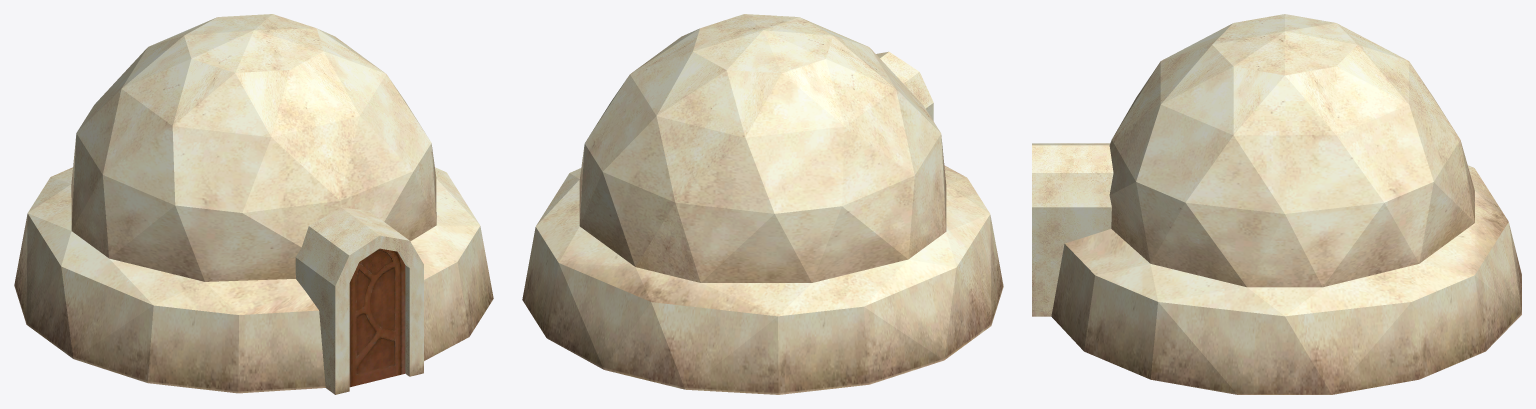
Rendered from thm_tato_sandstone_hovel_s01_l1.fbx.
The picture shows the model from 3 angles, left to right: view 1: azimuth 30°, elevation 25°; view 2: azimuth 150°, elevation 25°; view 3: azimuth 270°, elevation 25°; orthographic projection.
Visible parts, largest first — view 1: mesh_node; view 2: mesh_node; view 3: mesh_node.
Boxes of the visible parts, x1=… form: mesh_node: x1=14, y1=14, x2=493, y2=394; mesh_node: x1=522, y1=14, x2=1003, y2=394; mesh_node: x1=1032, y1=14, x2=1521, y2=394.
Bounding box in the file's own units: 6.69 × 4.1 × 6.91.
